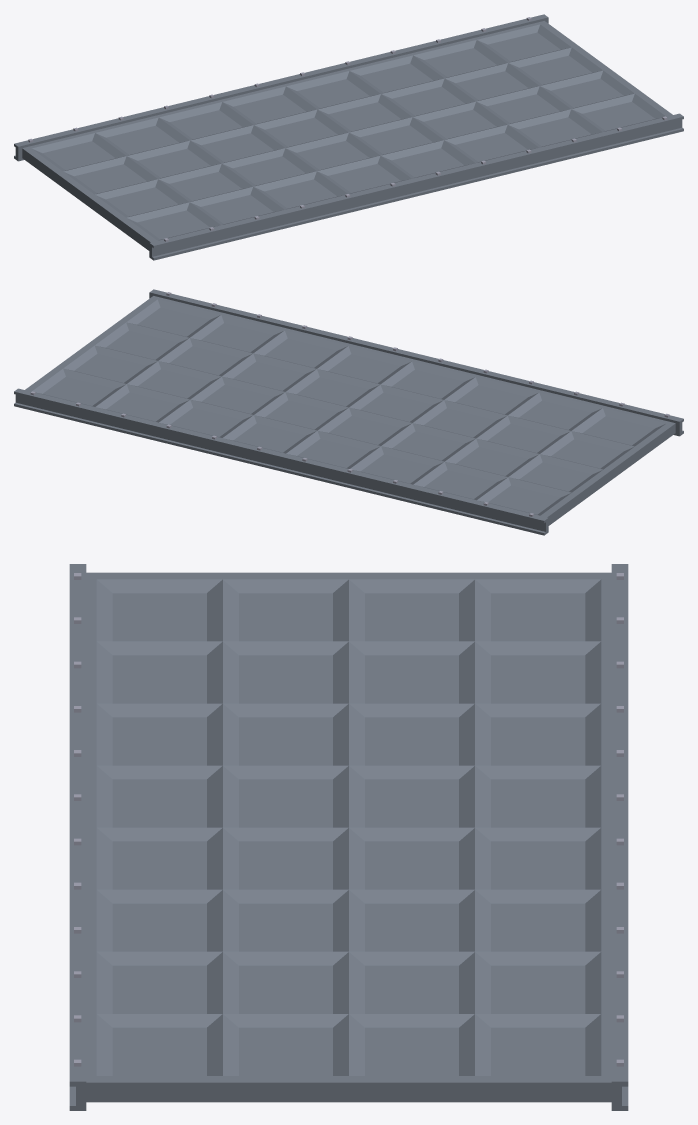
File: Board01_004.fbx
3 views of the same model, one above another, from view 1: azimuth 30°, elevation 25°; view 2: azimuth 150°, elevation 25°; view 3: azimuth 270°, elevation 25° (orthographic). The views are drawn at different scales.
Visible parts, largest first — view 1: Board01.004; view 2: Board01.004; view 3: Board01.004.
Boxes of the visible parts, x1,y1,x2,y2 form: Board01.004: (14, 14, 683, 260); Board01.004: (14, 289, 683, 535); Board01.004: (69, 564, 628, 1110).
Bounding box in the file's own units: 2.03 × 0.0604 × 0.9266.
